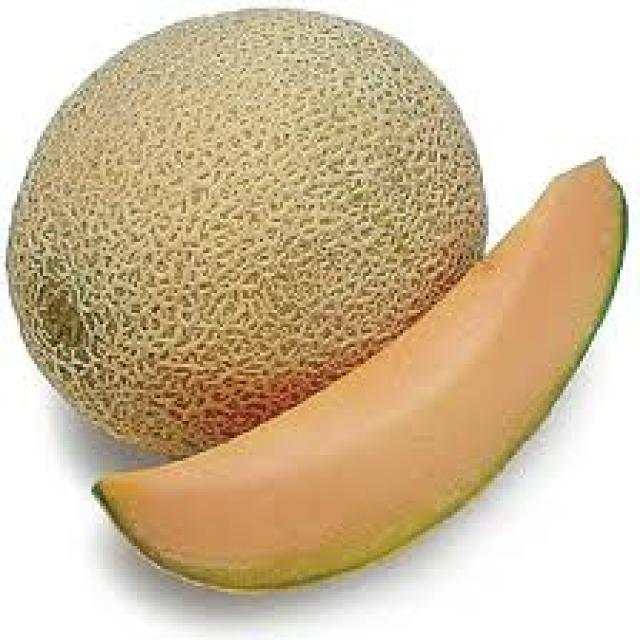Melon: (77, 150, 640, 592)
